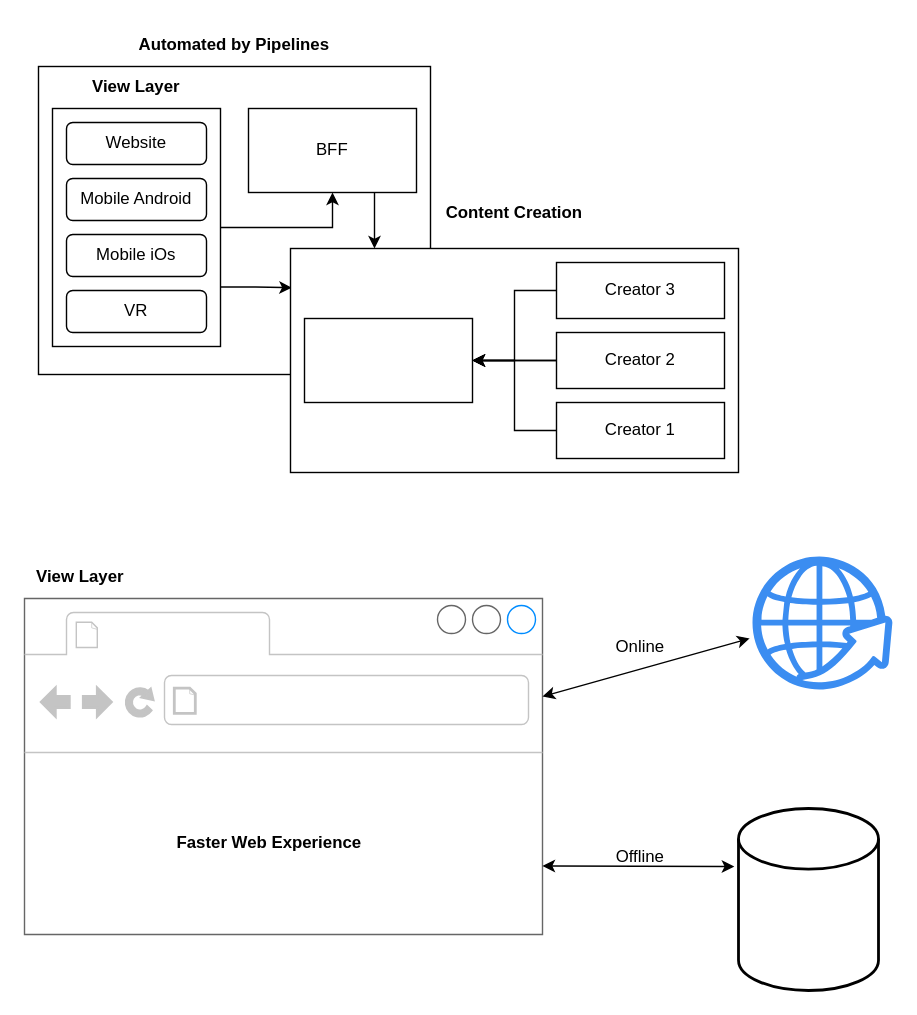
The diagram is 917 pixels wide and 1015 high, and some of its shapes have lost their labels. The centre of each missing label's shape, as x and y in pixels:
"AEM" belongs at (x=387, y=359).
"nexaexperience.com" belongs at (x=380, y=700).
"Page 1" belongs at (x=184, y=633).
"Store data in browser to save bandwidth" belongs at (x=807, y=898).
